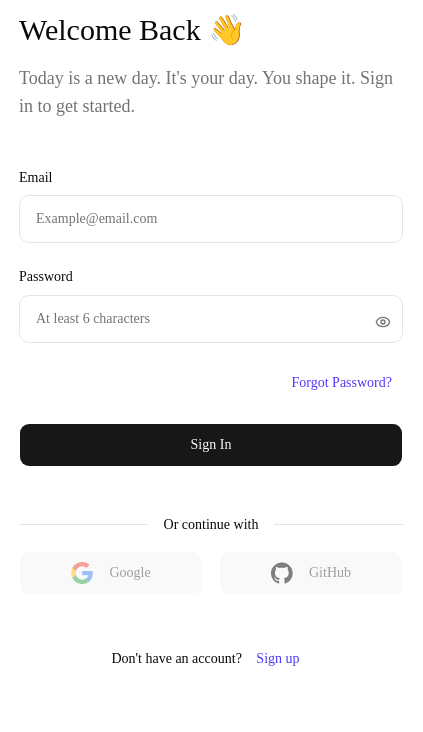
Test: Conjunto de Testes: AuthForm › Integração com Zod E Submissão › should display Zod error messages when fields are invalid
This screenshot has width=423, height=732.
Click the button "Sign In": point(211, 444) 19,422 -> 403,466
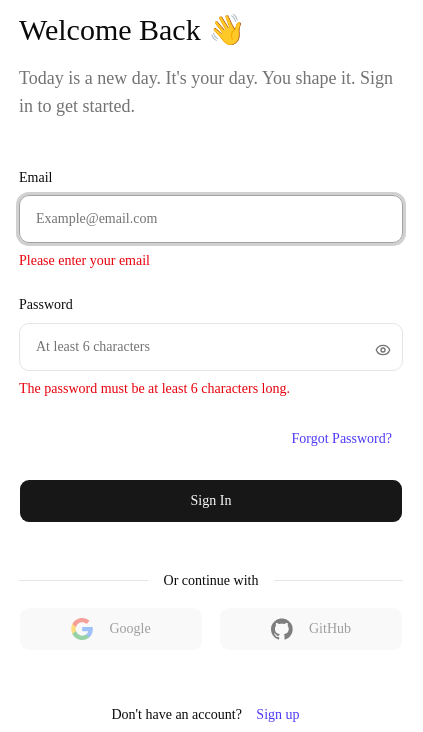
Result: the text "Please enter your email" is shown at 19,253 -> 150,268
Result: the text "The password must be at least 6 characters long." is shown at 19,380 -> 290,396
